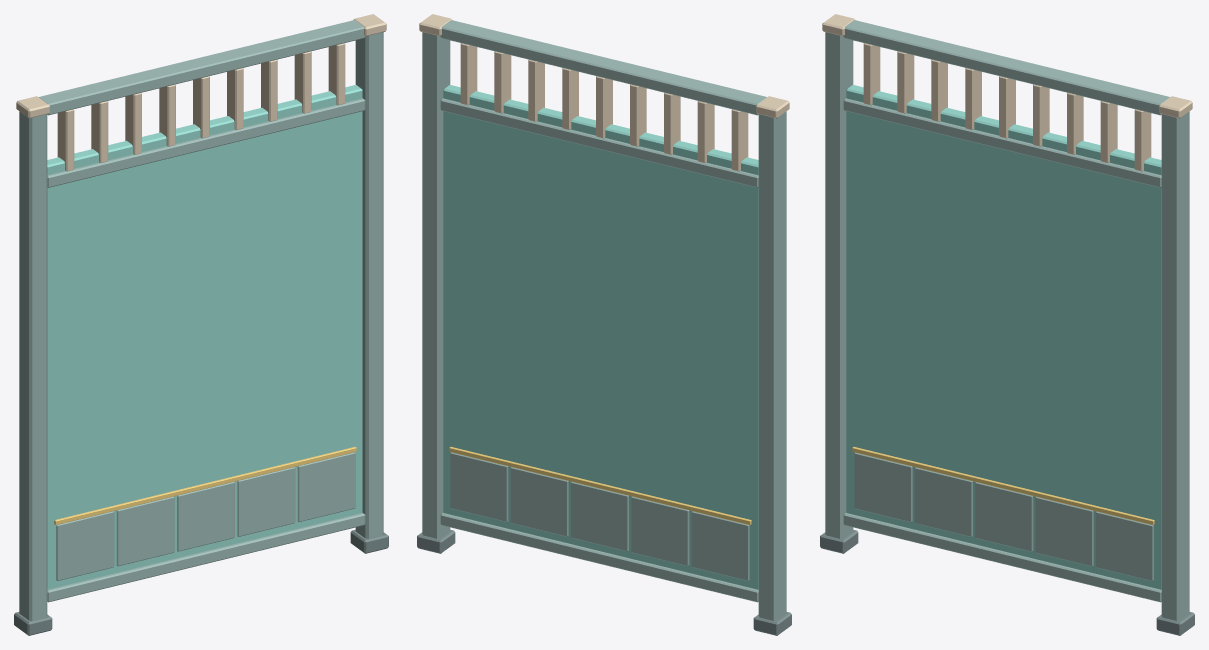
Rendered from Structure-CivicPrivacyScreen.fbx.
3 views of the same model, side by side, from view 1: azimuth 30°, elevation 25°; view 2: azimuth 150°, elevation 25°; view 3: azimuth 330°, elevation 25° (orthographic).
Visible parts, largest first — view 1: Structure-CivicPrivacyScreen Mesh; view 2: Structure-CivicPrivacyScreen Mesh; view 3: Structure-CivicPrivacyScreen Mesh.
Part boxes in pixels (x1,y1,x2,y2): Structure-CivicPrivacyScreen Mesh: (14,14,388,635); Structure-CivicPrivacyScreen Mesh: (417,14,791,635); Structure-CivicPrivacyScreen Mesh: (820,14,1194,635).
Bounding box in the file's own units: 1.5 × 2.09 × 0.108.
